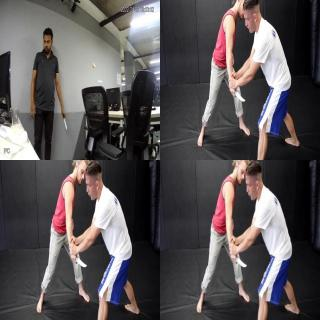knife: (228, 88, 246, 104), (70, 254, 88, 268), (230, 254, 248, 268), (60, 113, 70, 131)
